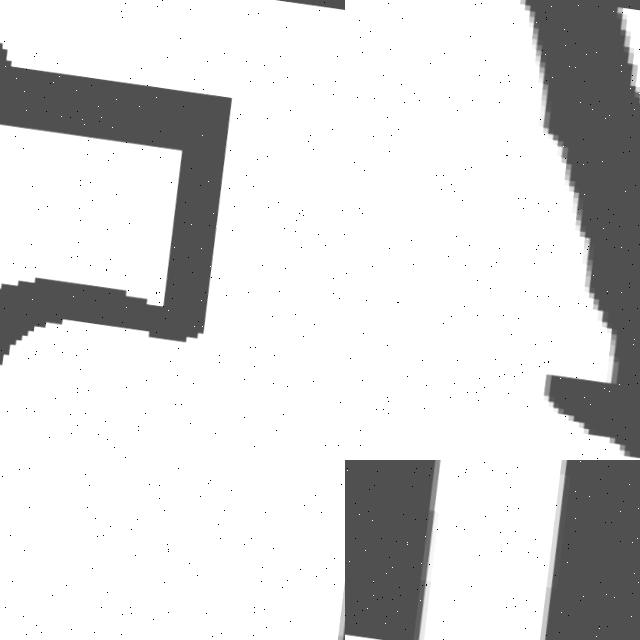5: (0, 22, 282, 460)
K: (9, 460, 345, 640)
N: (345, 460, 640, 640)
Q: (423, 0, 640, 460)
